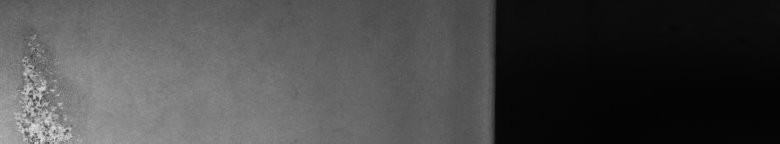hc: (13, 28, 80, 136)
